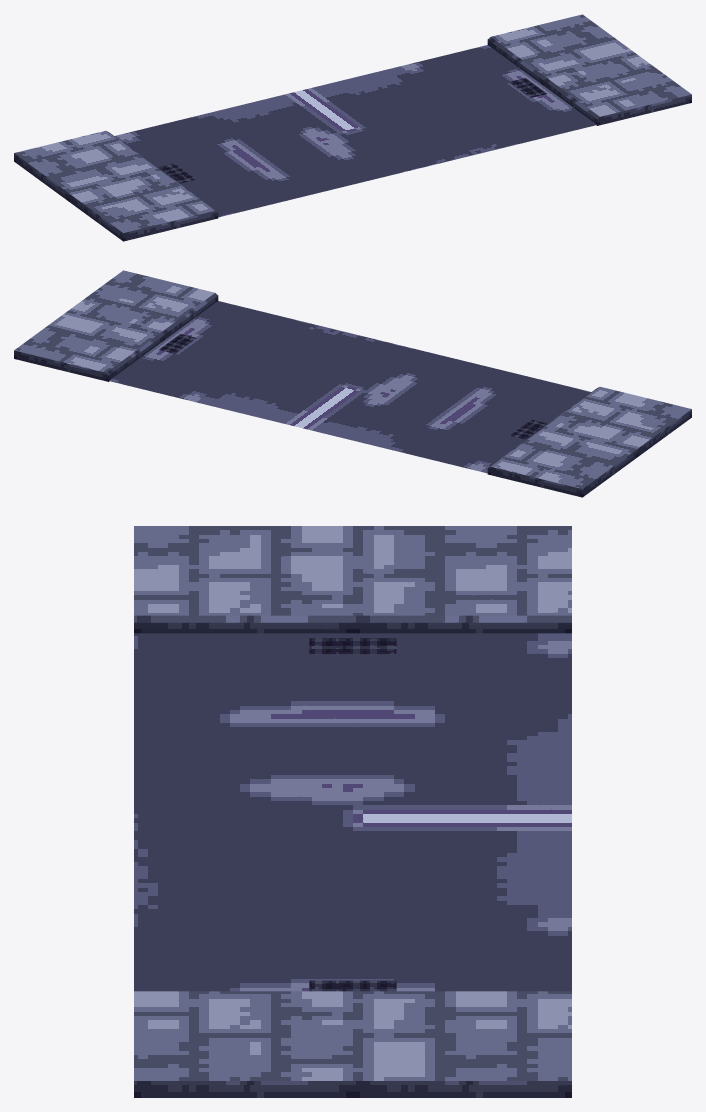
The model's file is cystreet.road__short.glb.
3 views of the same model, one above another, from view 1: azimuth 30°, elevation 25°; view 2: azimuth 150°, elevation 25°; view 3: azimuth 270°, elevation 25° (orthographic). The views are drawn at different scales.
Parts seen in each view (by area): view 1: kit_shell_road, kit_walks, kit_card_paint; view 2: kit_shell_road, kit_walks, kit_card_paint; view 3: kit_shell_road, kit_walks, kit_card_paint.
Part boxes in pixels (box(x1,y1,x2,y2)): kit_shell_road: box(115, 45, 596, 217); kit_walks: box(14, 14, 691, 241); kit_card_paint: box(159, 78, 546, 183); kit_shell_road: box(109, 301, 590, 473); kit_walks: box(14, 270, 691, 497); kit_card_paint: box(159, 334, 546, 439); kit_shell_road: box(134, 633, 571, 991); kit_walks: box(134, 526, 571, 1097); kit_card_paint: box(309, 638, 396, 991).
Size of the model in its own units: 12 by 0.17 by 4.
4 materials, 4 textured.
